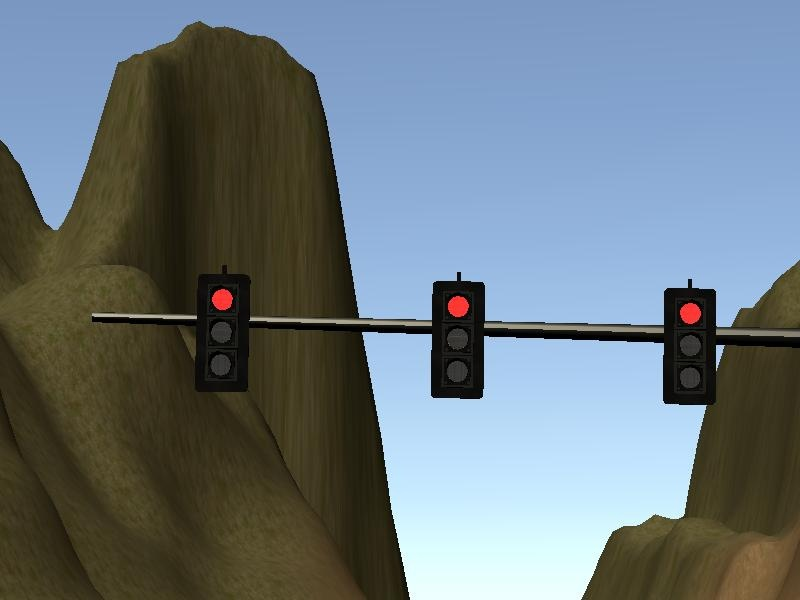red: (195, 270, 250, 389), (662, 285, 717, 404), (430, 277, 485, 396)
